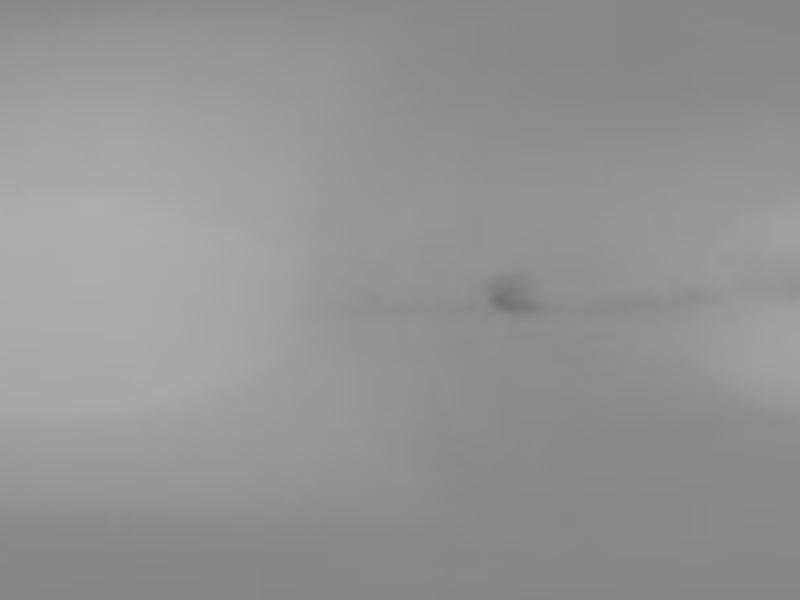defect: (489, 271, 538, 313)
